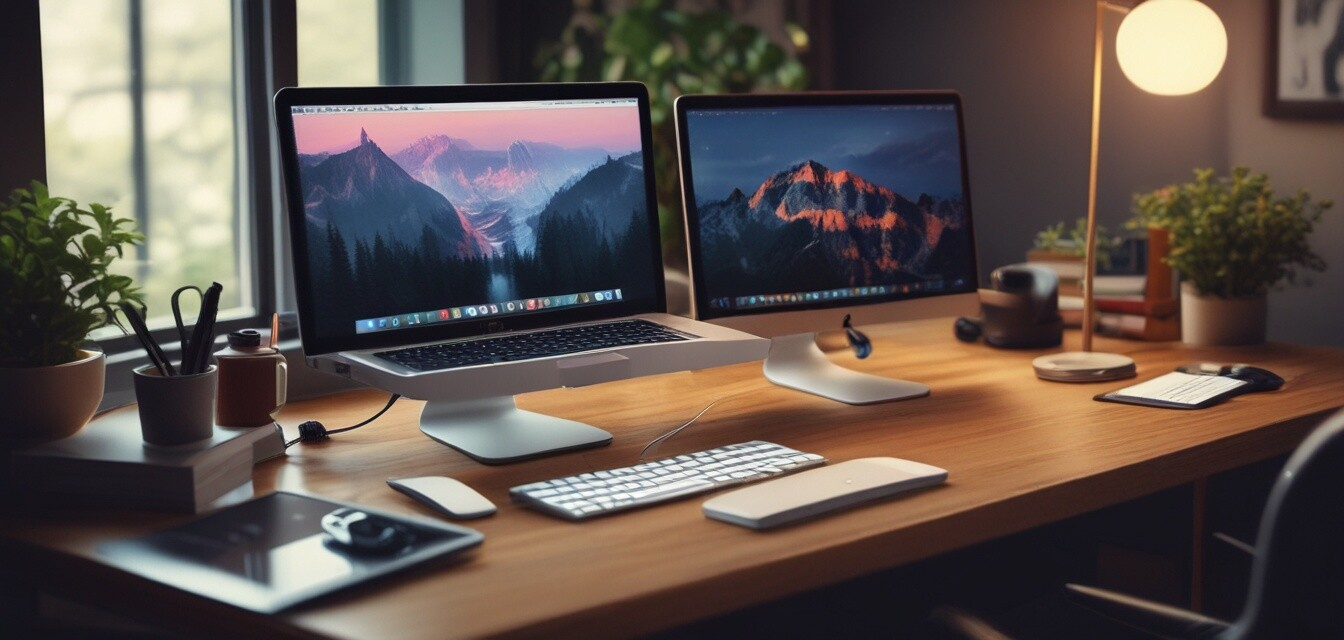not a gesture sign: (276, 85, 1343, 637)
